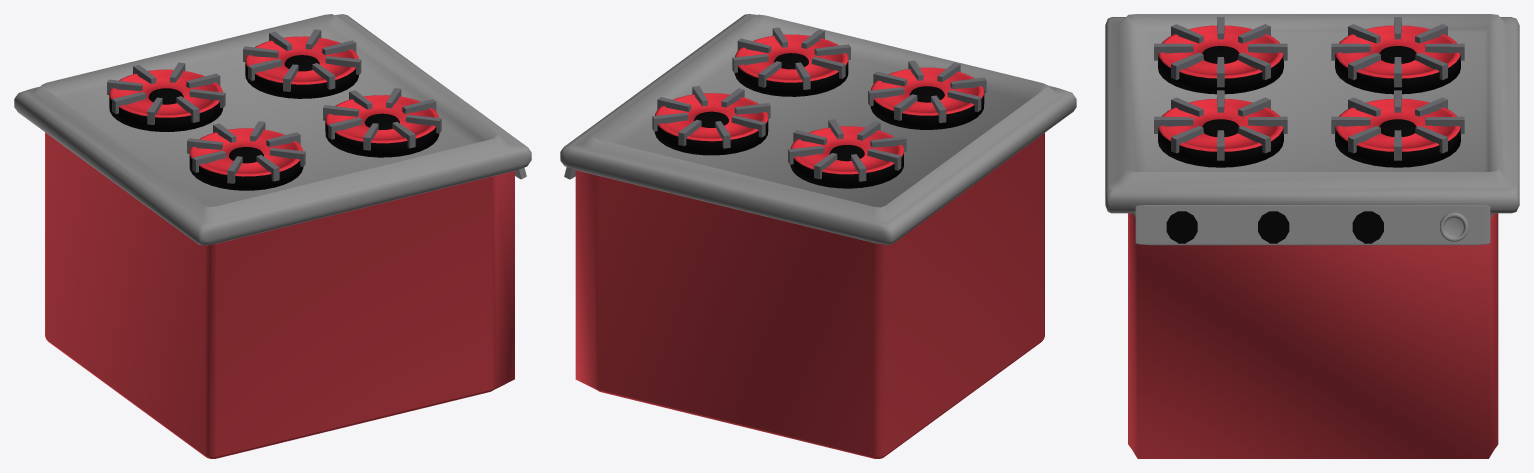
Rendered from StoveMulti.glb.
3 renders of one model, left to right at view 1: azimuth 30°, elevation 25°; view 2: azimuth 150°, elevation 25°; view 3: azimuth 270°, elevation 25°, orthographic. The views are drawn at different scales.
Visible parts, largest first — view 1: Object; view 2: Object; view 3: Object.
Part boxes in pixels (left/top/right/bottom): Object: left=14, top=14, right=531, bottom=458; Object: left=560, top=14, right=1076, bottom=458; Object: left=1105, top=14, right=1519, bottom=458.
Bounding box in the file's own units: 0.9601 × 0.7036 × 0.8961.
